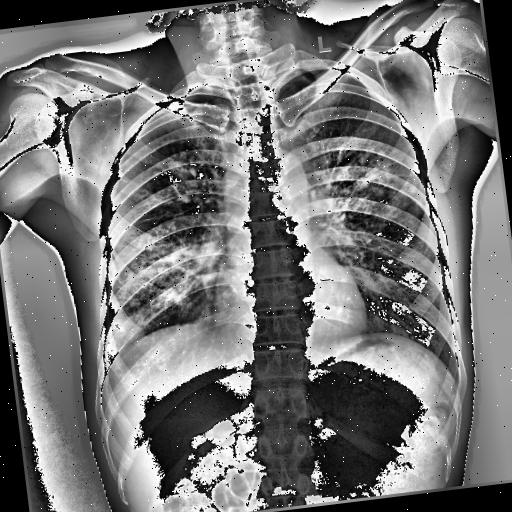10- Pleural effusion: (93, 300, 145, 383), (97, 334, 130, 386)
11- Pleural thickening: (93, 300, 145, 383), (97, 334, 130, 386)
13- Pulmonary fibrosis: (104, 206, 230, 320), (308, 134, 424, 238), (164, 141, 204, 184)
4- Consolidation: (104, 308, 145, 356)
6- Infiltration: (109, 139, 244, 325), (117, 148, 229, 322), (303, 130, 428, 284), (104, 206, 230, 320), (308, 134, 424, 238), (318, 142, 412, 241)
7- Lung Opacity: (104, 314, 135, 356)
